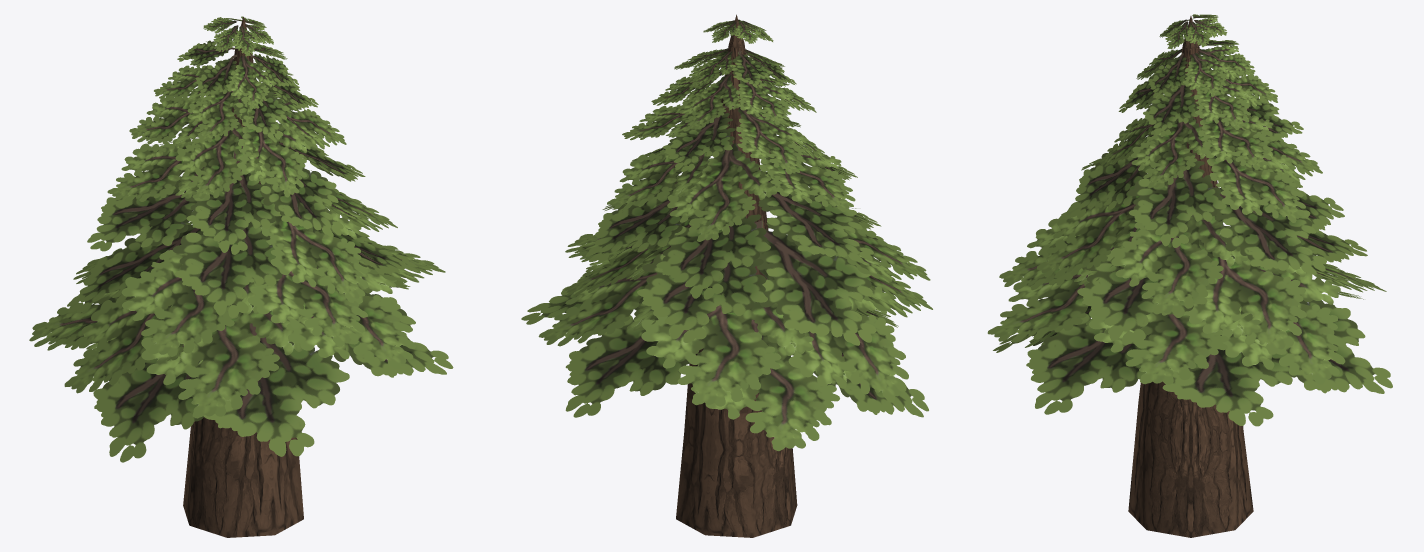
Rendered from Pine_2.obj.
3 renders of one model, left to right at view 1: azimuth 30°, elevation 25°; view 2: azimuth 150°, elevation 25°; view 3: azimuth 270°, elevation 25°, orthographic.
Bounding box in the file's own units: 13.95 × 17.3 × 13.73.
